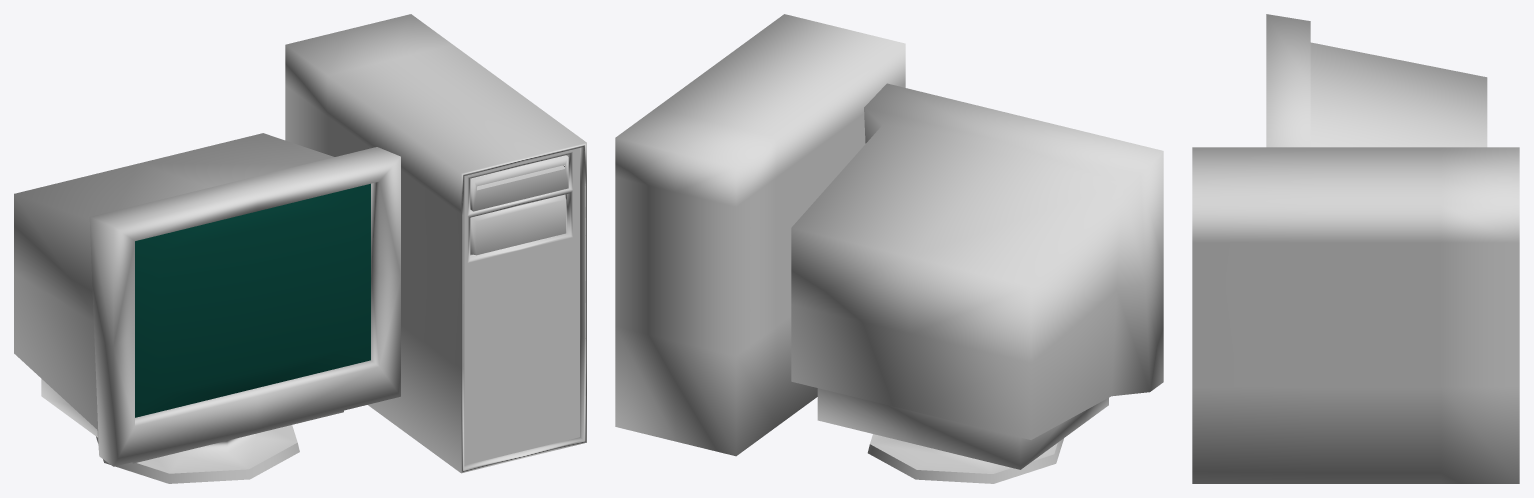
The picture shows the model from 3 angles, left to right: view 1: azimuth 30°, elevation 25°; view 2: azimuth 150°, elevation 25°; view 3: azimuth 270°, elevation 25°; orthographic projection. The views are drawn at different scales.
Visible parts, largest first — view 1: GEO_Monitor, GEO_Tarro; view 2: GEO_Monitor, GEO_Tarro; view 3: GEO_Tarro, GEO_Monitor.
Part boxes in pixels (box(x1,y1,x2,y2)): GEO_Monitor: box(14, 133, 400, 483); GEO_Tarro: box(285, 14, 586, 473); GEO_Monitor: box(791, 83, 1163, 483); GEO_Tarro: box(615, 14, 905, 456); GEO_Tarro: box(1192, 147, 1519, 483); GEO_Monitor: box(1266, 14, 1487, 147).
Bounding box in the file's own units: 144 × 95.23 × 101.
